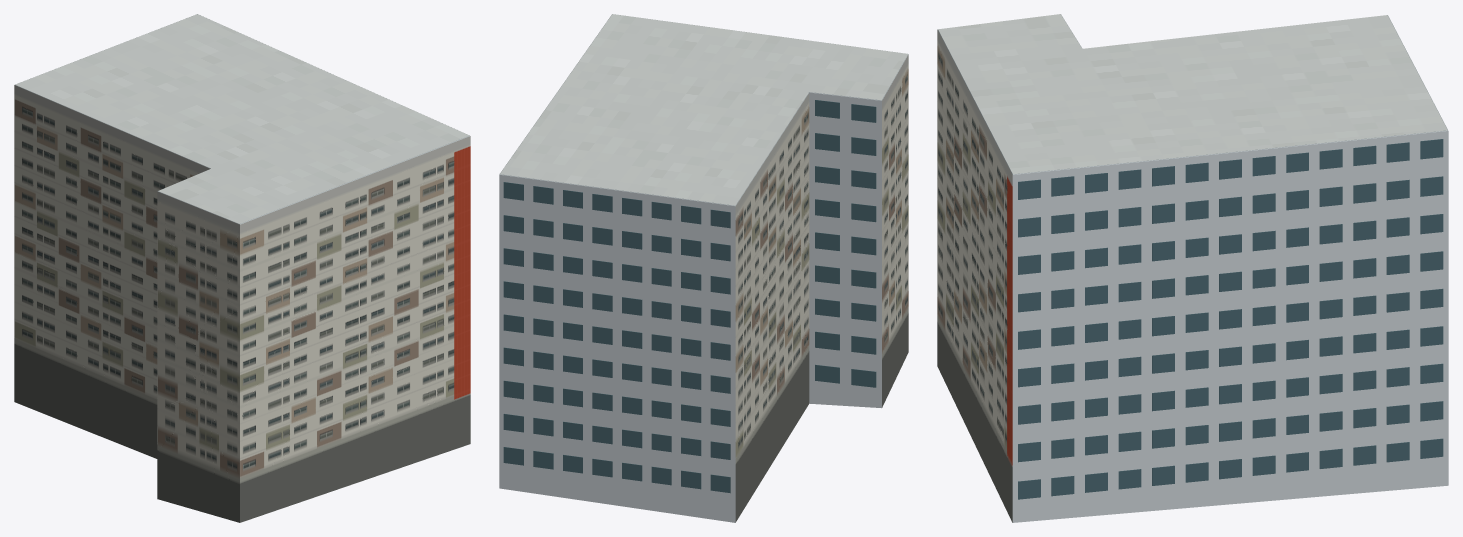
The model's file is fragments.glb.
3 renders of one model, left to right at view 1: azimuth 30°, elevation 25°; view 2: azimuth 150°, elevation 25°; view 3: azimuth 270°, elevation 25°, orthographic. The views are drawn at different scales.
Visible parts, largest first — view 1: SM_nuri-east_Fragment_010, SM_nuri-east_Fragment_028, SM_nuri-east_Fragment_002, SM_nuri-east_Fragment_022, SM_nuri-east_Fragment_021, SM_nuri-east_Fragment_040, SM_nuri-east_Fragment_001, SM_nuri-east_Fragment_030, SM_nuri-east_Fragment_000, SM_nuri-east_Fragment_029, SM_nuri-east_Fragment_012, SM_nuri-east_Fragment_042 (+24 smaller); view 2: SM_nuri-east_Fragment_013, SM_nuri-east_Fragment_001, SM_nuri-east_Fragment_042, SM_nuri-east_Fragment_018, SM_nuri-east_Fragment_016, SM_nuri-east_Fragment_041, SM_nuri-east_Fragment_055, SM_nuri-east_Fragment_048, SM_nuri-east_Fragment_049, SM_nuri-east_Fragment_002, SM_nuri-east_Fragment_006, SM_nuri-east_Fragment_030 (+23 smaller); view 3: SM_nuri-east_Fragment_005, SM_nuri-east_Fragment_035, SM_nuri-east_Fragment_023, SM_nuri-east_Fragment_032, SM_nuri-east_Fragment_041, SM_nuri-east_Fragment_015, SM_nuri-east_Fragment_004, SM_nuri-east_Fragment_038, SM_nuri-east_Fragment_036, SM_nuri-east_Fragment_026, SM_nuri-east_Fragment_002, SM_nuri-east_Fragment_062 (+23 smaller).
Boxes of the visible parts, x1=… form: SM_nuri-east_Fragment_010: x1=203, y1=180, x2=334, y2=316; SM_nuri-east_Fragment_028: x1=157, y1=392, x2=295, y2=522; SM_nuri-east_Fragment_002: x1=272, y1=127, x2=447, y2=239; SM_nuri-east_Fragment_022: x1=74, y1=93, x2=180, y2=251; SM_nuri-east_Fragment_021: x1=276, y1=300, x2=377, y2=425; SM_nuri-east_Fragment_040: x1=193, y1=299, x2=295, y2=415; SM_nuri-east_Fragment_001: x1=14, y1=66, x2=112, y2=192; SM_nuri-east_Fragment_030: x1=112, y1=111, x2=264, y2=213; SM_nuri-east_Fragment_000: x1=356, y1=367, x2=451, y2=482; SM_nuri-east_Fragment_029: x1=265, y1=400, x2=363, y2=513; SM_nuri-east_Fragment_012: x1=354, y1=229, x2=417, y2=357; SM_nuri-east_Fragment_042: x1=157, y1=155, x2=290, y2=248; SM_nuri-east_Fragment_013: x1=538, y1=153, x2=701, y2=282; SM_nuri-east_Fragment_001: x1=646, y1=165, x2=760, y2=303; SM_nuri-east_Fragment_042: x1=755, y1=57, x2=897, y2=192; SM_nuri-east_Fragment_018: x1=505, y1=271, x2=626, y2=407; SM_nuri-east_Fragment_016: x1=549, y1=401, x2=671, y2=506; SM_nuri-east_Fragment_041: x1=499, y1=151, x2=583, y2=306; SM_nuri-east_Fragment_055: x1=592, y1=306, x2=701, y2=435; SM_nuri-east_Fragment_048: x1=645, y1=253, x2=766, y2=372; SM_nuri-east_Fragment_049: x1=666, y1=363, x2=756, y2=466; SM_nuri-east_Fragment_002: x1=641, y1=18, x2=796, y2=75; SM_nuri-east_Fragment_006: x1=804, y1=211, x2=896, y2=321; SM_nuri-east_Fragment_030: x1=708, y1=79, x2=808, y2=193; SM_nuri-east_Fragment_005: x1=1218, y1=110, x2=1385, y2=247; SM_nuri-east_Fragment_035: x1=1062, y1=244, x2=1214, y2=390; SM_nuri-east_Fragment_023: x1=1242, y1=224, x2=1404, y2=360; SM_nuri-east_Fragment_032: x1=1138, y1=174, x2=1286, y2=329; SM_nuri-east_Fragment_041: x1=1349, y1=111, x2=1448, y2=282; SM_nuri-east_Fragment_015: x1=1049, y1=126, x2=1229, y2=241; SM_nuri-east_Fragment_004: x1=1242, y1=351, x2=1384, y2=475; SM_nuri-east_Fragment_038: x1=988, y1=141, x2=1138, y2=283; SM_nuri-east_Fragment_036: x1=1351, y1=279, x2=1448, y2=424; SM_nuri-east_Fragment_026: x1=992, y1=356, x2=1090, y2=499; SM_nuri-east_Fragment_002: x1=965, y1=75, x2=1099, y2=199; SM_nuri-east_Fragment_062: x1=995, y1=234, x2=1074, y2=365.
Bounding box in the file's own units: 1.64 × 1.7 × 2.2.
Materials: 8 (4 with a texture image).
